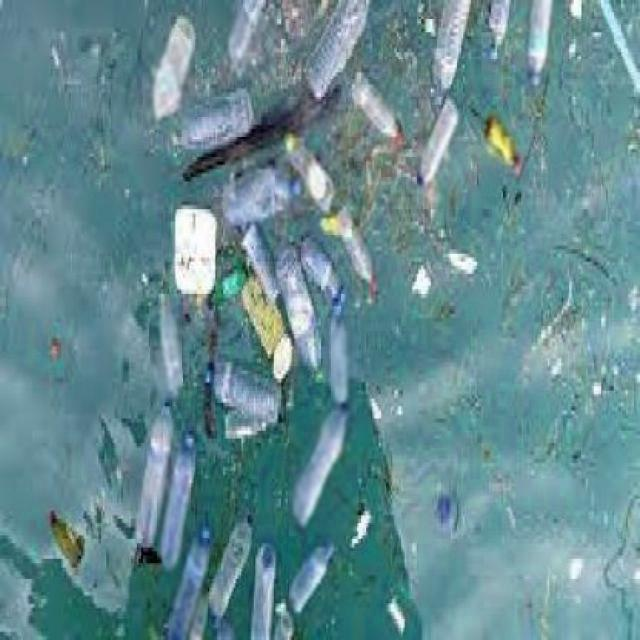Glass: (482, 108, 524, 182)
Metal: (232, 278, 294, 378)
Plastic: (119, 406, 185, 547), (286, 402, 351, 531), (276, 240, 331, 392), (298, 0, 368, 98), (152, 424, 198, 572), (163, 85, 258, 152), (140, 13, 197, 123), (207, 511, 254, 640), (278, 134, 346, 220), (164, 521, 213, 640), (165, 199, 219, 304), (224, 159, 304, 228), (198, 364, 288, 419), (332, 208, 387, 297), (408, 101, 462, 190), (422, 0, 472, 96), (144, 294, 188, 401), (238, 220, 286, 308), (350, 73, 407, 145), (298, 235, 352, 304), (286, 540, 335, 614), (521, 0, 556, 94), (247, 544, 280, 640), (224, 0, 272, 64), (478, 0, 513, 61), (212, 410, 265, 450), (185, 594, 213, 640), (270, 598, 297, 640)
